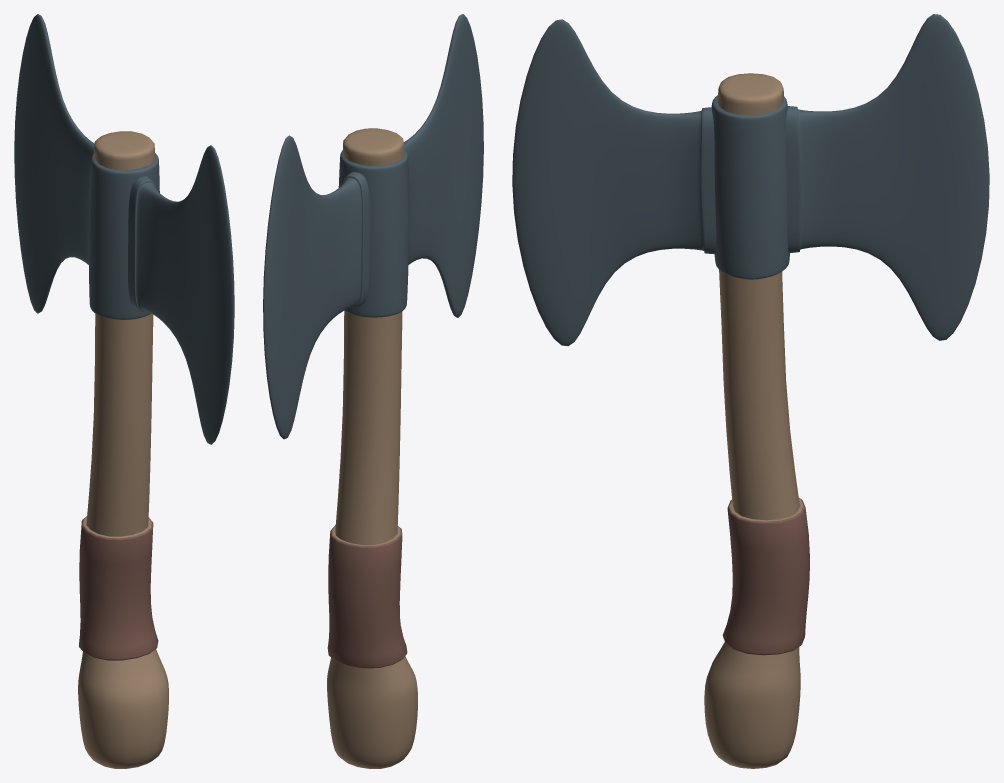
Rendered from Axe.fbx.
3 renders of one model, left to right at view 1: azimuth 30°, elevation 25°; view 2: azimuth 150°, elevation 25°; view 3: azimuth 270°, elevation 25°, orthographic. The views are drawn at different scales.
Parts seen in each view (by area): view 1: Axe; view 2: Axe; view 3: Axe.
Boxes of the visible parts, x1,y1,x2,y2 form: Axe: (14, 14, 234, 768); Axe: (263, 14, 483, 768); Axe: (512, 14, 989, 768).
Size of the model in its own units: 95.04 by 790 by 458.
